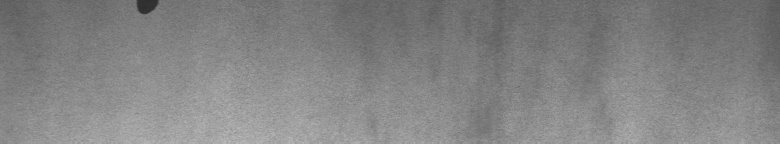fi: (131, 4, 164, 23)
